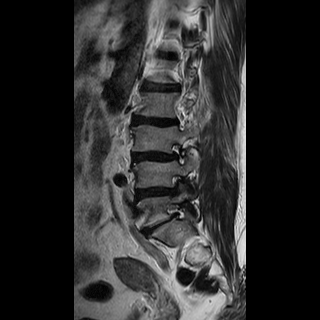LFS2: (166, 135, 188, 167)
